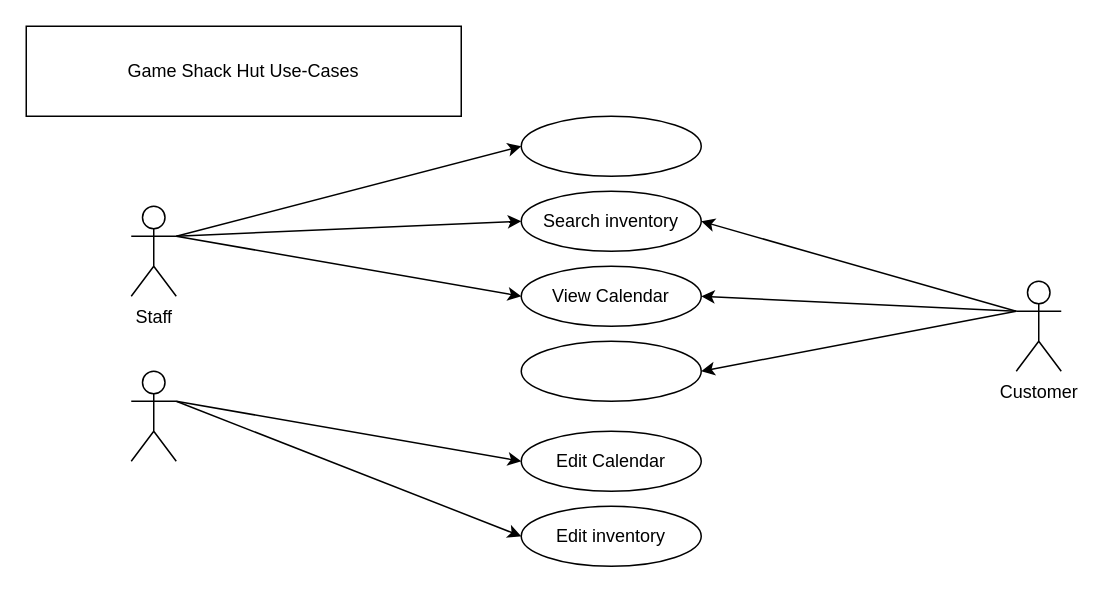
Some shapes in this 1104 by 593 pixel diagram are drawn without their labels. Here are the shapes that lost their labels. From the top down, the centre of each, then its label:
the point at 610,145: Checkout
the point at 610,370: Signup for Events
the point at 153,415: Manager (is a Staff)
